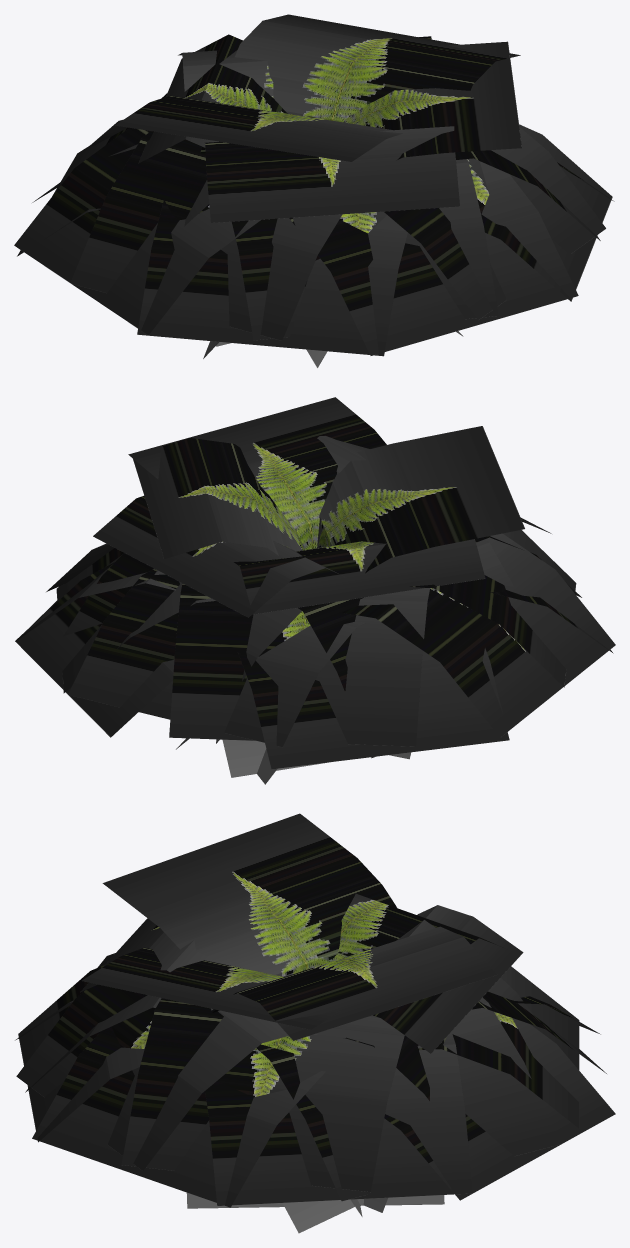
The model's file is fern-origin-transformed.glb.
The picture shows the model from 3 angles, top to bottom: view 1: azimuth 30°, elevation 25°; view 2: azimuth 150°, elevation 25°; view 3: azimuth 270°, elevation 25°; orthographic projection. The views are drawn at different scales.
Parts seen in each view (by area): view 1: Plane_Material_0; view 2: Plane_Material_0; view 3: Plane_Material_0.
Boxes of the visible parts, x1,y1,x2,y2 form: Plane_Material_0: (14,14,614,367); Plane_Material_0: (15,397,615,784); Plane_Material_0: (15,813,615,1233).
Bounding box in the file's own units: 4.64 × 2.13 × 4.68.
1 material, 1 textured.
